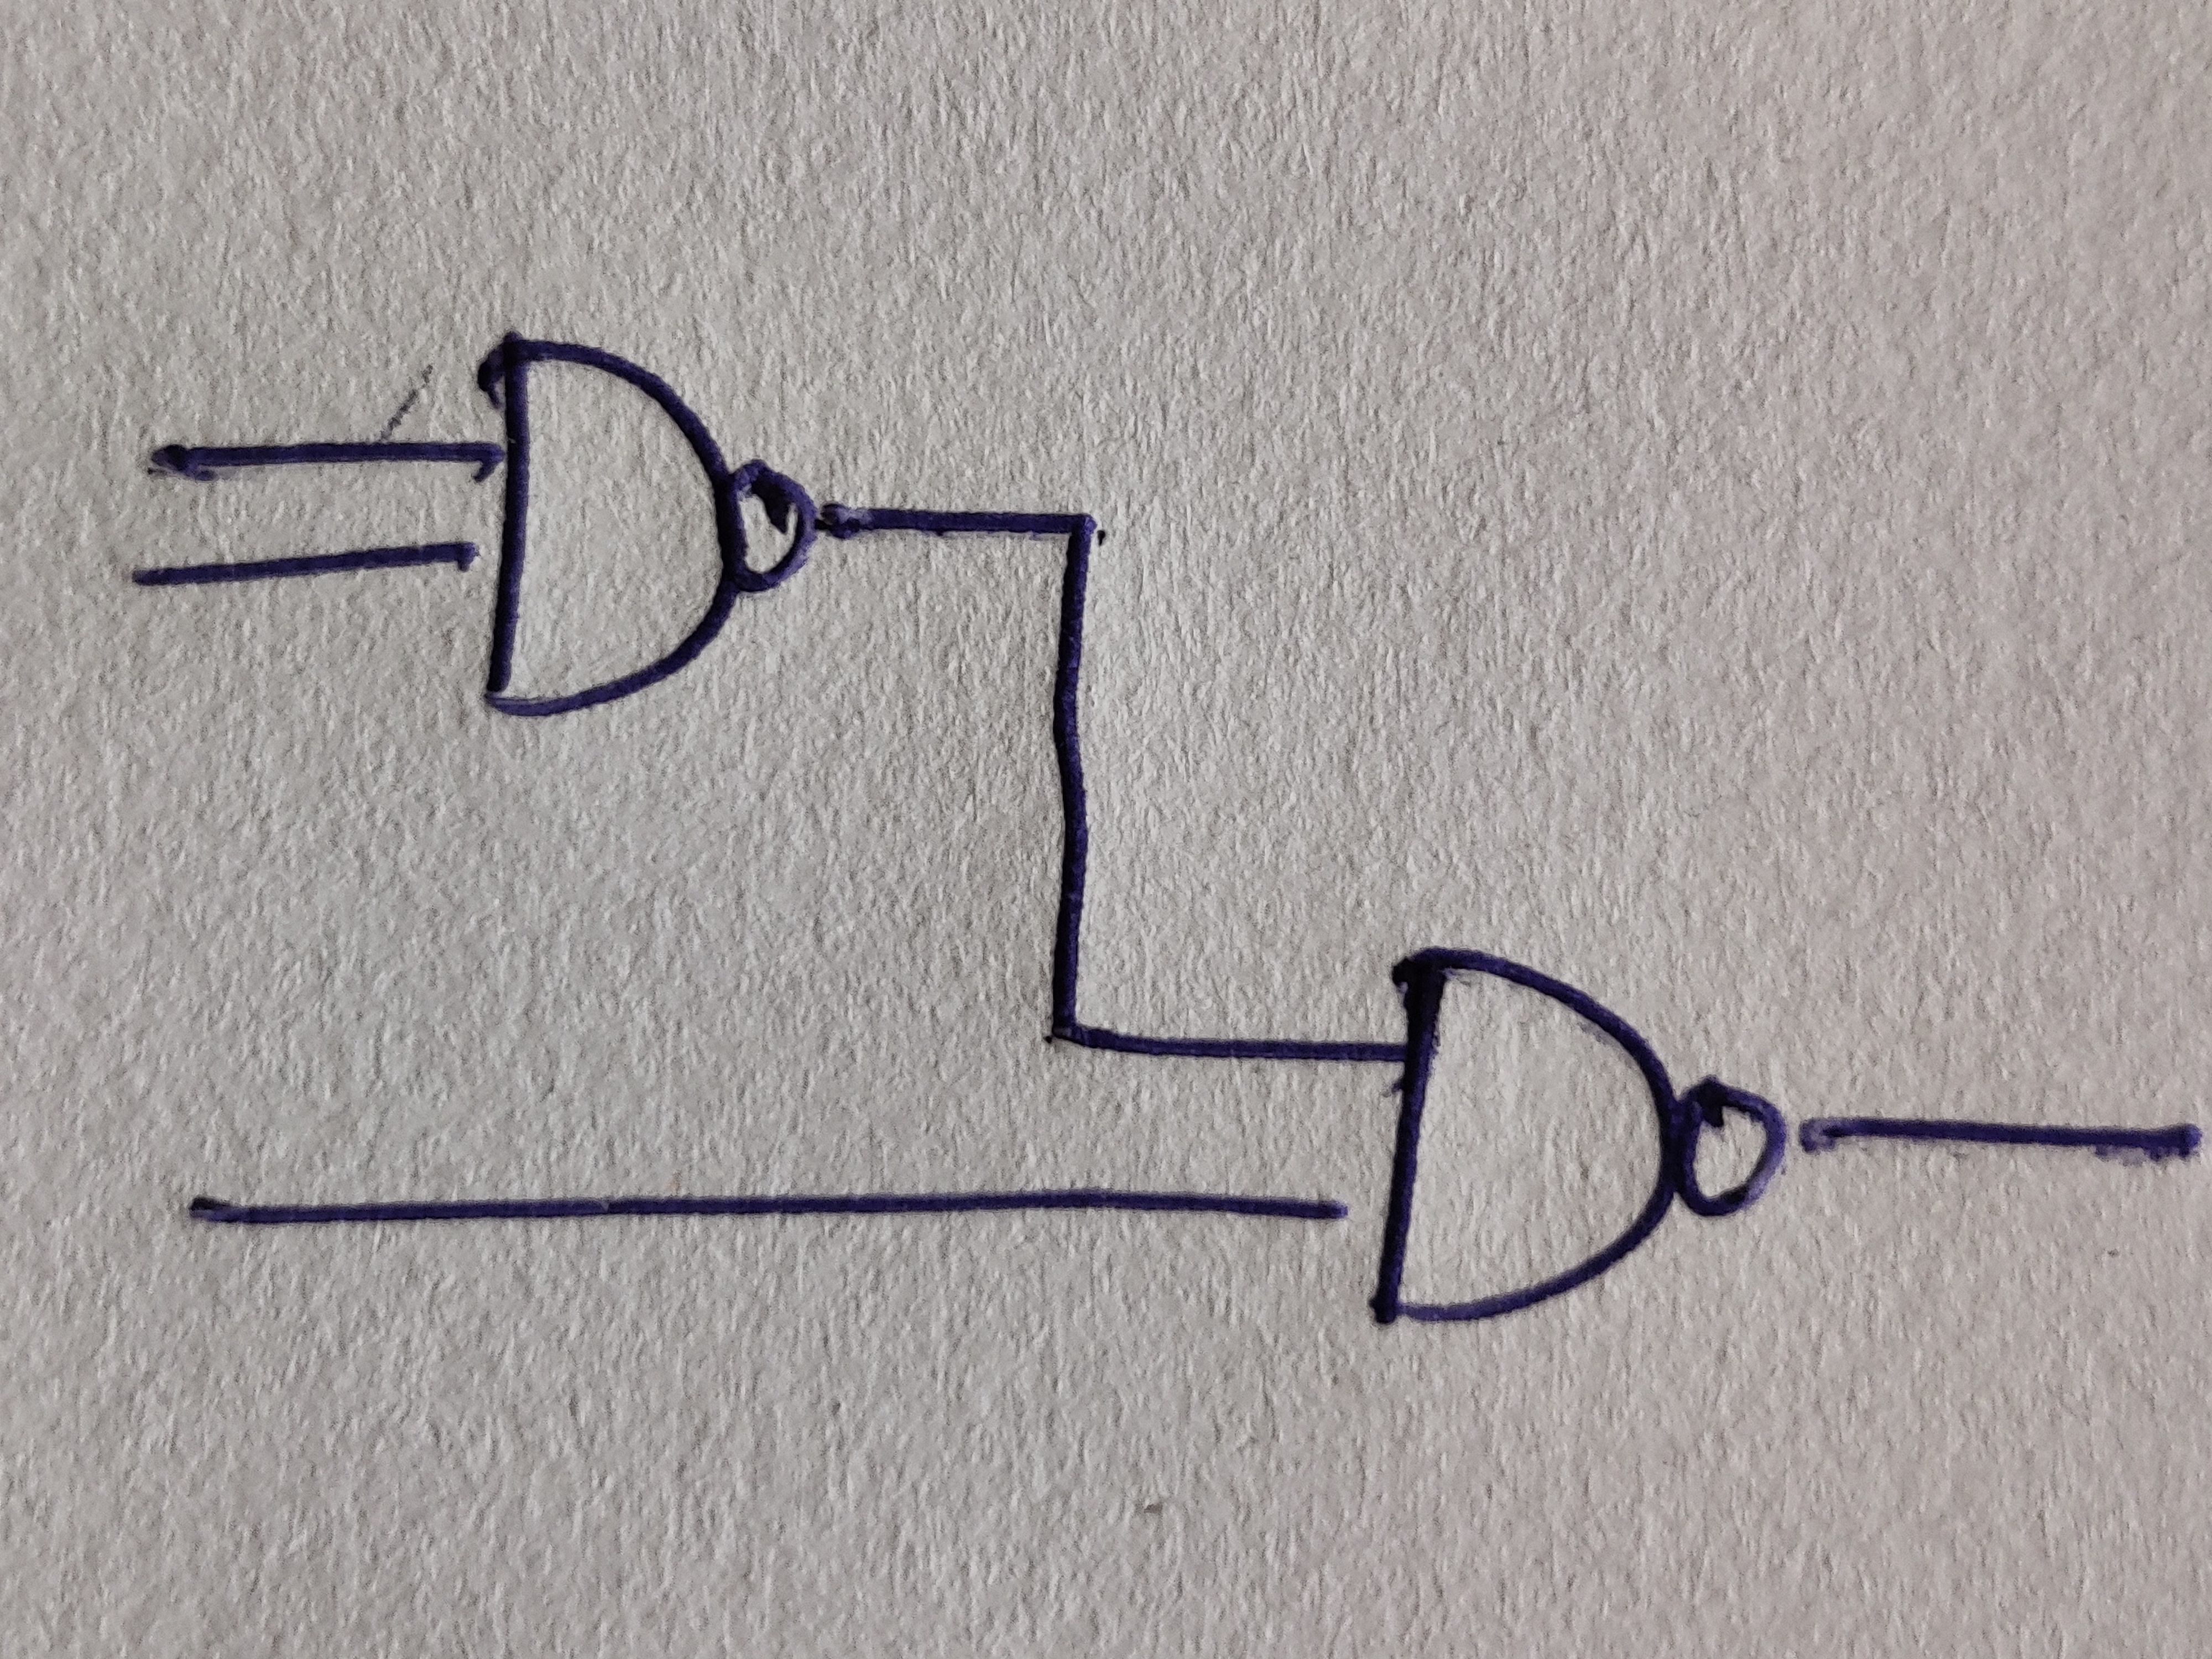and: (1374, 950, 1681, 1328), (482, 333, 745, 718)
not: (1679, 1075, 1787, 1216), (718, 458, 815, 592)
